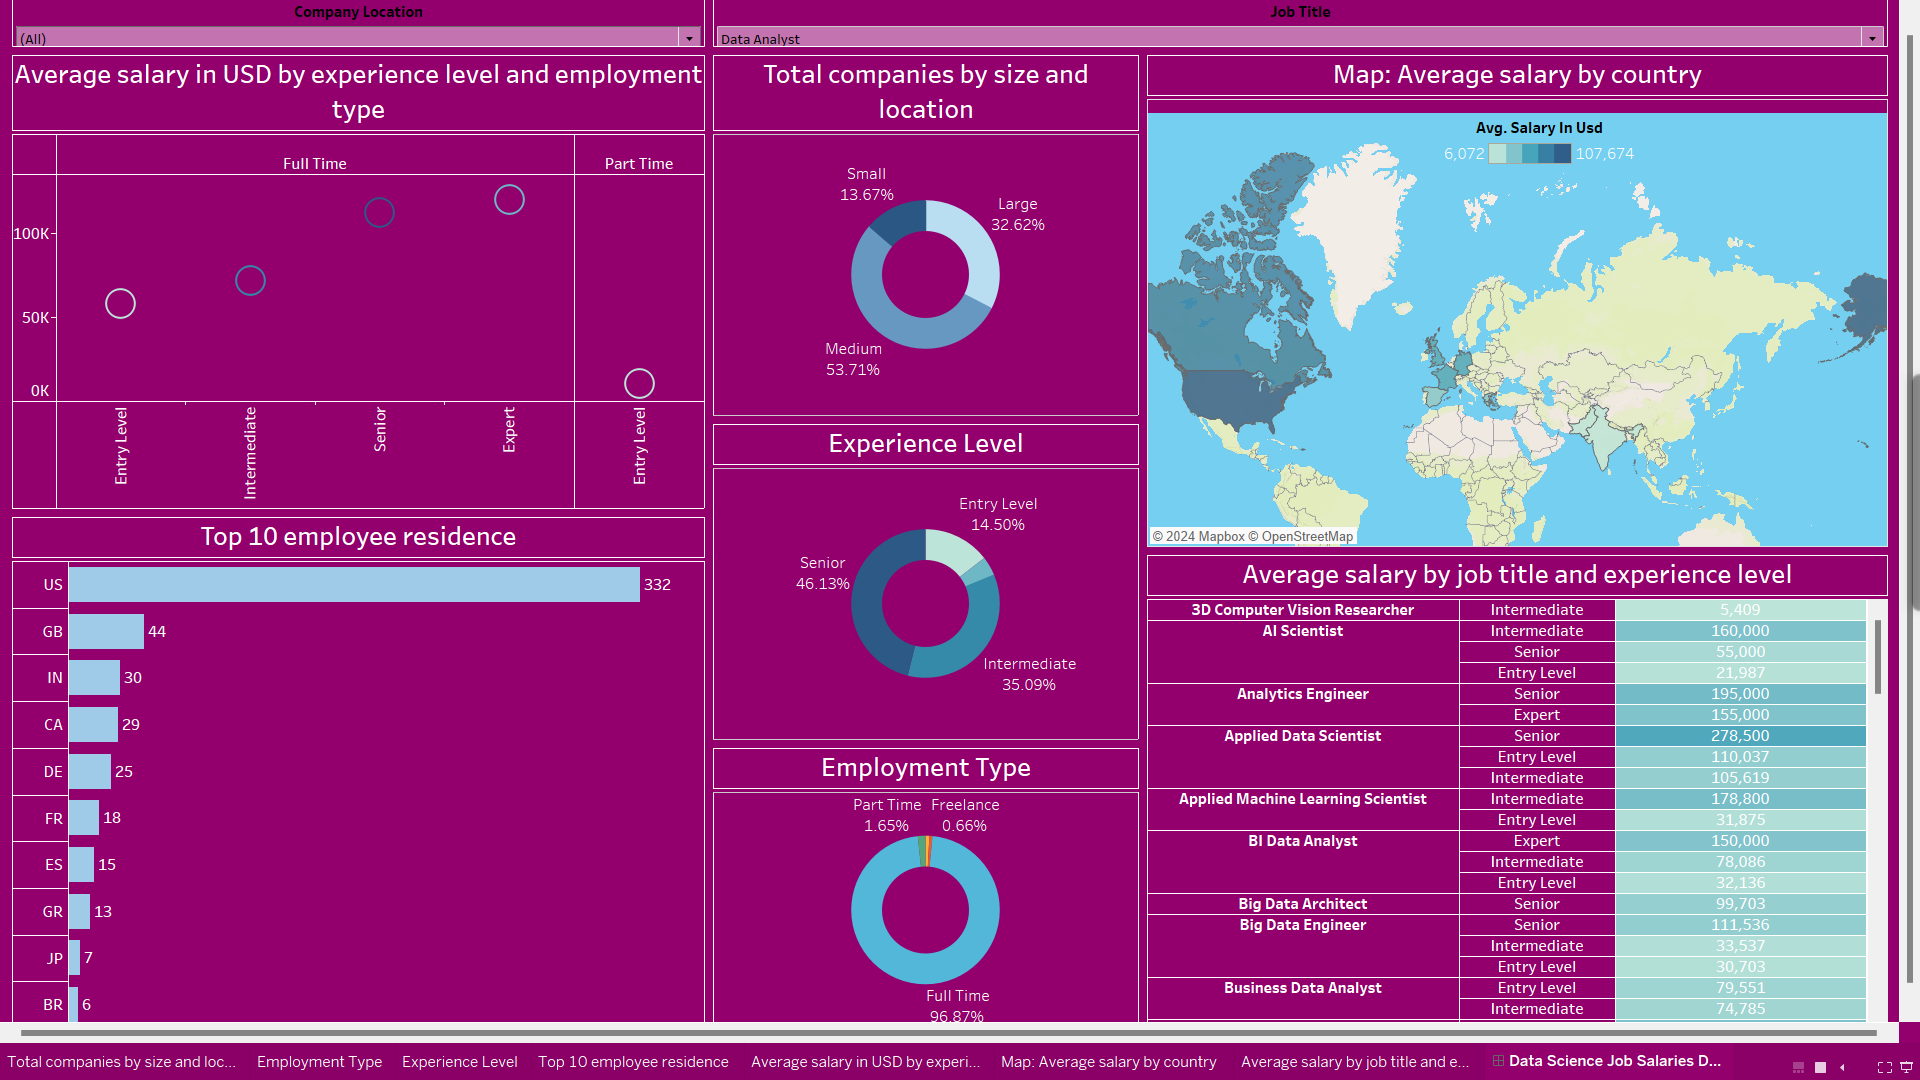

Layout of this report page (visuals, bound fields, positions):
{"tool":"tableau","page":{"name":"Data Science Job Salaries Dashboard","canvas":[1900,1056],"ordinal":0},"visuals":[{"type":"filter","title":"Average salary in USD by experience level and employment type","param":"[federated.067fh9t185z0y11567zhi1u040c7].[none:company_location:nk]","box":[8,8,701.4,57.9]},{"type":"filter","title":"Average salary in USD by experience level and employment type","param":"[federated.067fh9t185z0y11567zhi1u040c7].[none:job_title:nk]","box":[709.4,8,1182.6,58]},{"type":"worksheet","title":"Average salary in USD by experience level and employment type","mark":"Shape","rows":["salary_in_usd"],"cols":["employment_type","experience_level"],"box":[8,65.9,701.4,462.1]},{"type":"worksheet","title":"Total companies by size and location","mark":"Pie","rows":["Calculation_348747499068043265","Calculation_348747499068043265"],"box":[709.4,66,433.9,368.7]},{"type":"worksheet","title":"Map: Average salary by country","mark":"Automatic","box":[1143.4,66,748.6,499.6]},{"type":"legend","title":"Map: Average salary by country","param":"[federated.067fh9t185z0y11567zhi1u040c7].[avg:salary_in_usd:qk]","box":[1440,132,199,62]},{"type":"worksheet","title":"Experience Level","mark":"Pie","rows":["Calculation_348747499068043265","Calculation_348747499068043265"],"box":[709.4,434.8,433.9,324.1]},{"type":"worksheet","title":"Top 10 employee residence","mark":"Automatic","rows":["employee_residence"],"cols":["employee_residence"],"box":[8,527.9,701.4,520.1]},{"type":"worksheet","title":"Average salary by job title and experience level","mark":"Square","rows":["job_title","experience_level"],"box":[1143.4,565.7,748.6,482.3]},{"type":"worksheet","title":"Employment Type","mark":"Pie","rows":["Calculation_348747499068043265","Calculation_348747499068043265"],"box":[709.4,758.9,433.9,289.1]}]}

Visuals, with their boxes on the page's 1900x1056 design canvas (x1, y1, x2, y2). These are canvas units, not pixel positions in the 1920x1080 screenshot, which may show the page scaled, cropped or inside an application window:
"Average salary in USD by experience level and employment type" filter: <bbox>8, 8, 709, 66</bbox>
"Average salary in USD by experience level and employment type" filter: <bbox>709, 8, 1892, 66</bbox>
"Average salary in USD by experience level and employment type" worksheet (Shape marks): <bbox>8, 66, 709, 528</bbox>
"Total companies by size and location" worksheet (Pie marks): <bbox>709, 66, 1143, 435</bbox>
"Map: Average salary by country" worksheet: <bbox>1143, 66, 1892, 566</bbox>
"Map: Average salary by country" legend: <bbox>1440, 132, 1639, 194</bbox>
"Experience Level" worksheet (Pie marks): <bbox>709, 435, 1143, 759</bbox>
"Top 10 employee residence" worksheet: <bbox>8, 528, 709, 1048</bbox>
"Average salary by job title and experience level" worksheet (Square marks): <bbox>1143, 566, 1892, 1048</bbox>
"Employment Type" worksheet (Pie marks): <bbox>709, 759, 1143, 1048</bbox>
